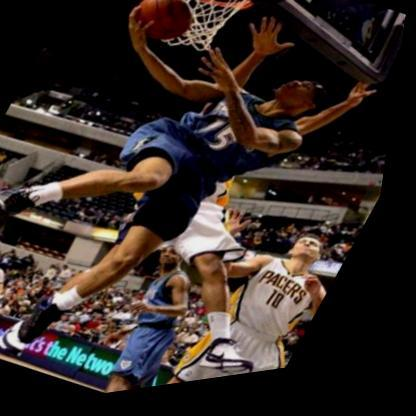basketball: (124, 0, 204, 57)
